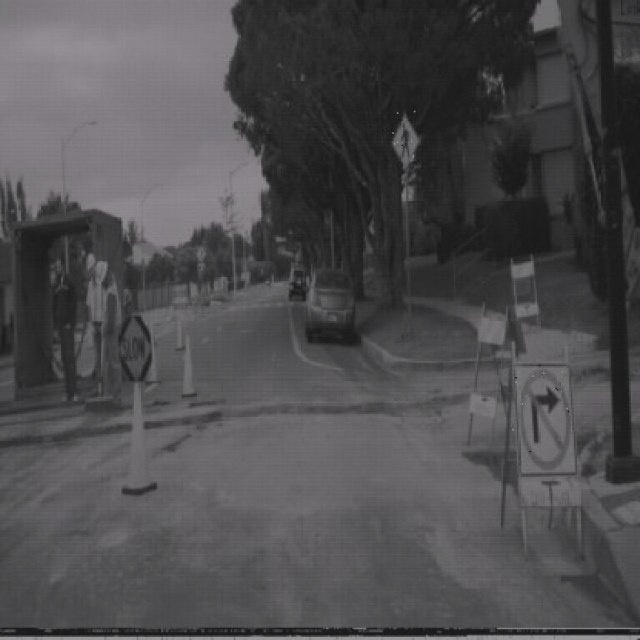noRightTurn: (510, 360, 578, 480)
pedestrianCrossing: (391, 110, 420, 170)
